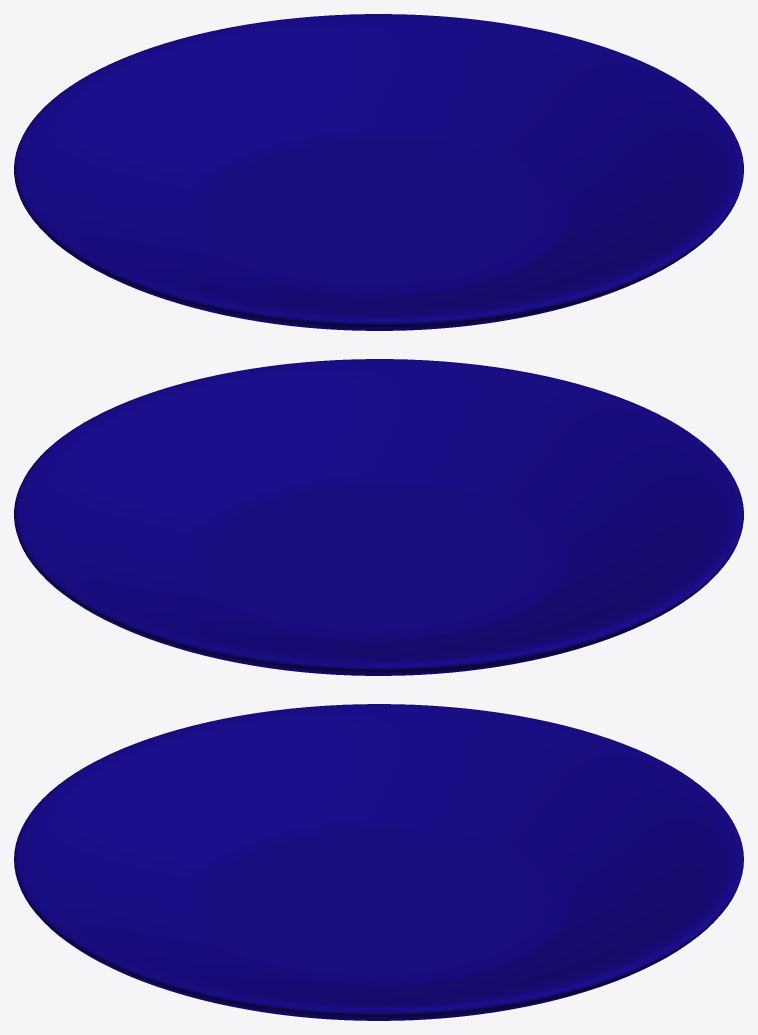
File: ceramic_plate.fbx
3 views of the same model, one above another, from view 1: azimuth 30°, elevation 25°; view 2: azimuth 150°, elevation 25°; view 3: azimuth 270°, elevation 25° (orthographic).
Parts seen in each view (by area): view 1: Plate; view 2: Plate; view 3: Plate.
Part boxes in pixels (x1,y1,x2,y2): Plate: [14, 14, 743, 330]; Plate: [14, 359, 743, 675]; Plate: [14, 704, 743, 1020].
Bounding box in the file's own units: 473 × 49.18 × 473.
